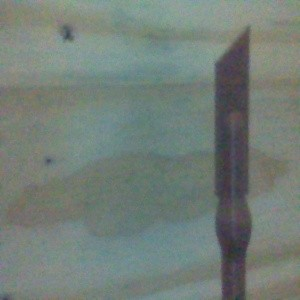cutter: (213, 23, 253, 300)
